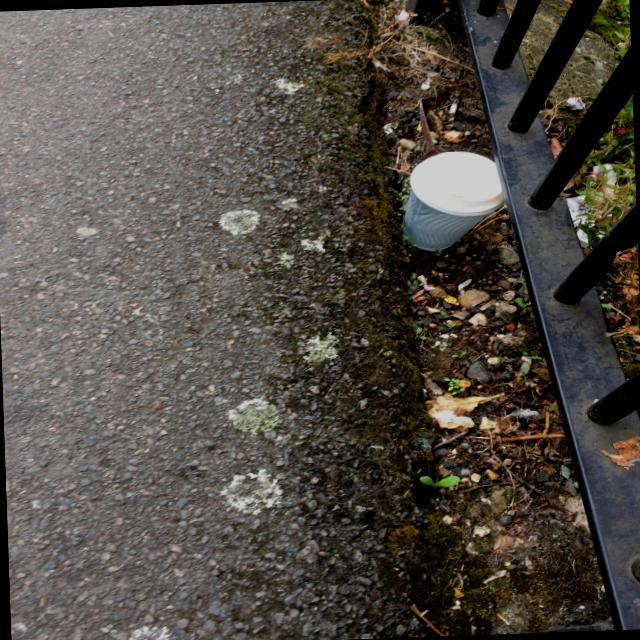Cup: (403, 152, 505, 250)
Lid: (411, 152, 504, 213)
Paper bag: (567, 195, 597, 248)
Unlabeled litter: (567, 96, 585, 110)
